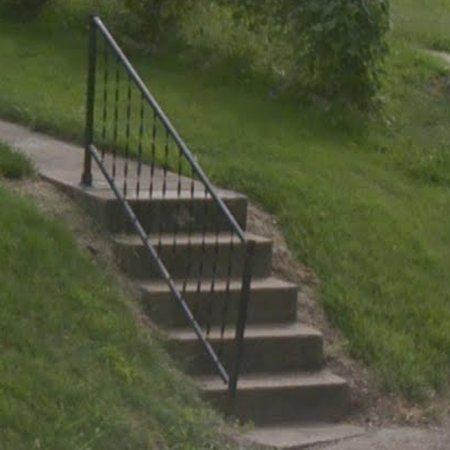stairs: (12, 15, 350, 425)
